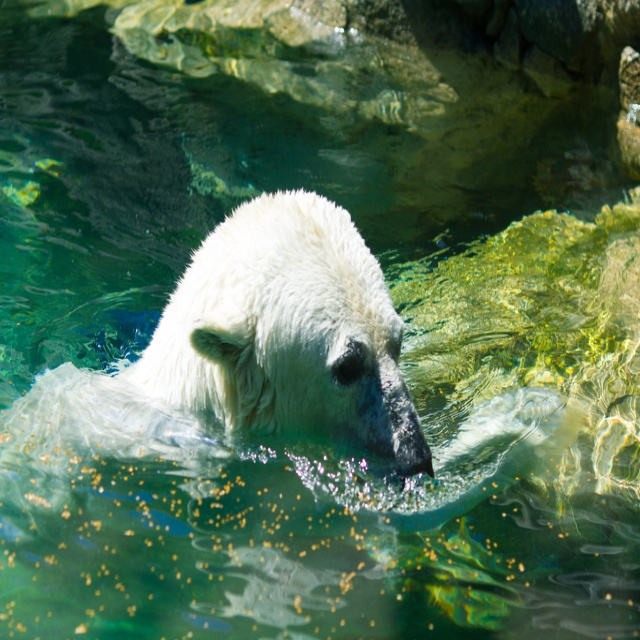Polar bear: (113, 186, 432, 469)
